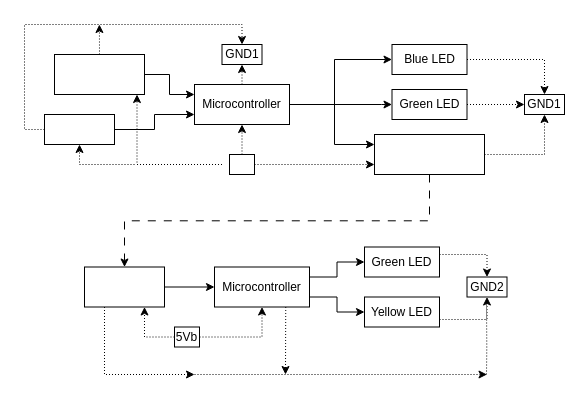
The diagram is 582 pixels wide and 400 high, and some of its shapes have lost their labels. The shapes that lost their labels are listed below. From the top down, each one's centre as x and y in pixels, then its label:
At point (99, 74): "Potentiometer".
At point (79, 129): "Button".
At point (241, 164): "5Va".
At point (429, 154): "RF Transmitter (433MHz)".
At point (124, 286): "RF Receiver".
